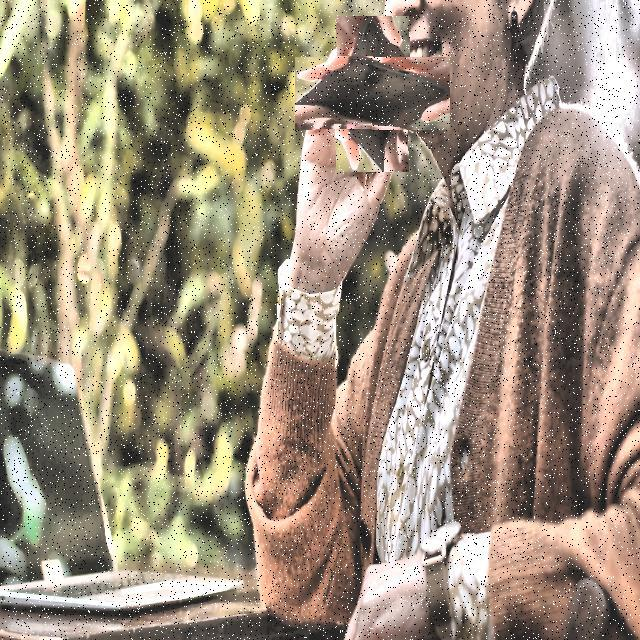Phone: (315, 36, 430, 152)
